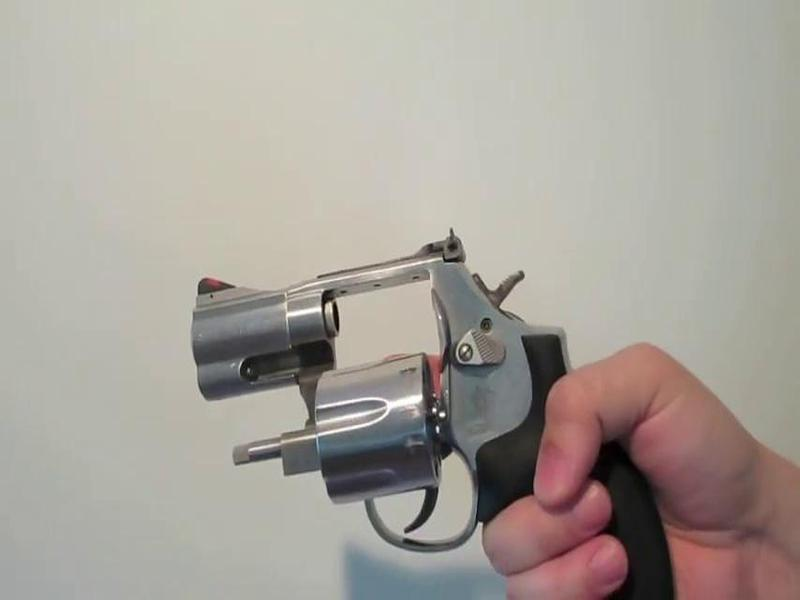Revolver: (179, 214, 687, 600)
